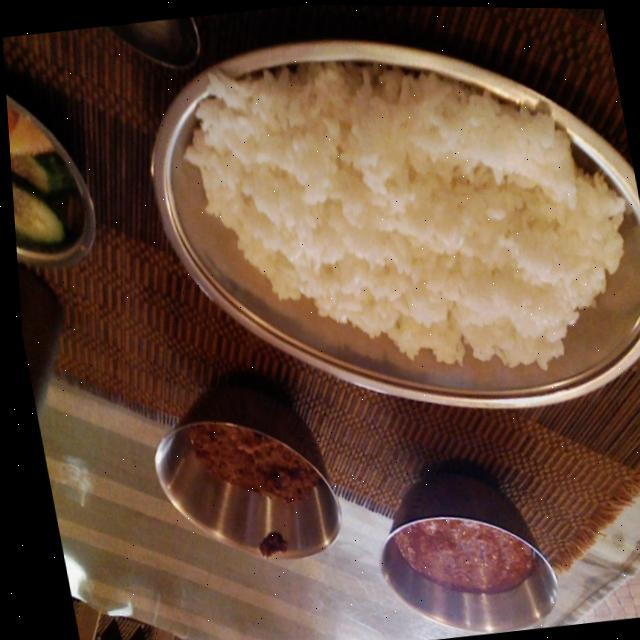米饭主食: (142, 5, 640, 447)
